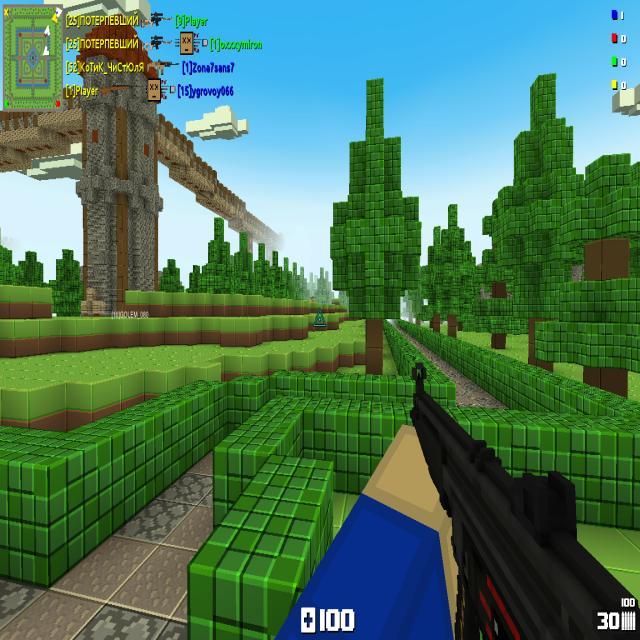enemy: (310, 296, 314, 302)
